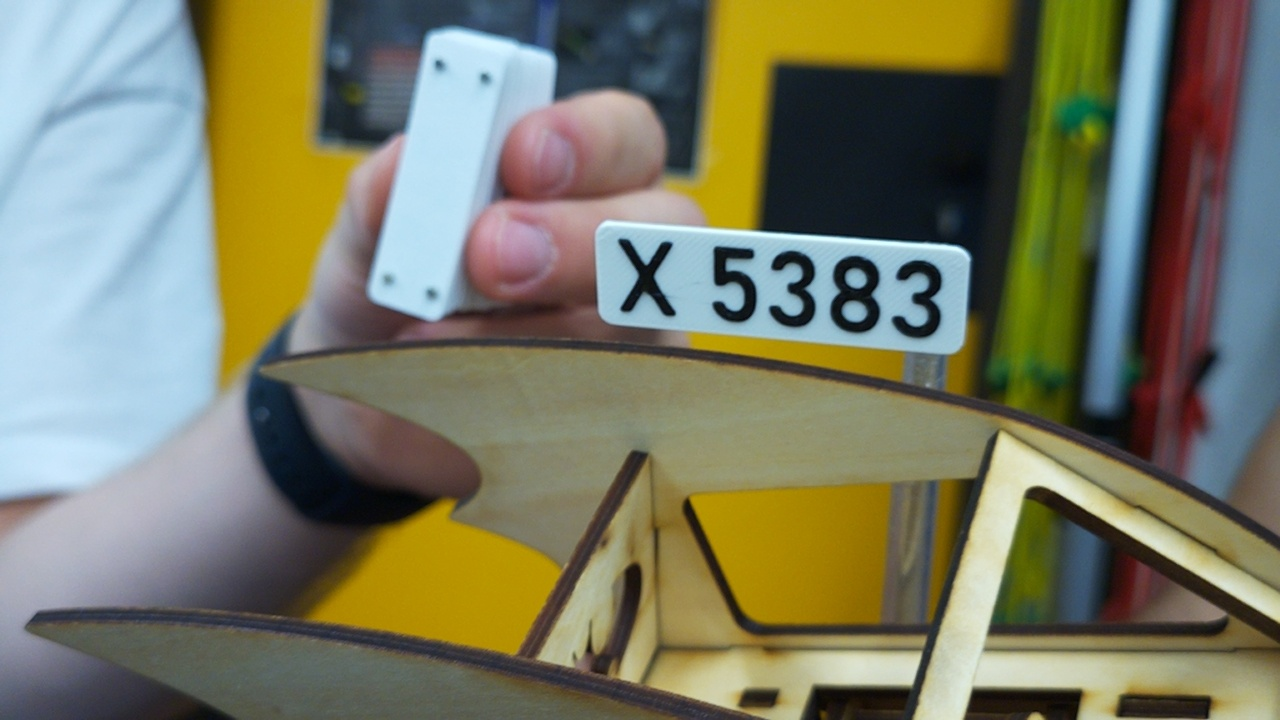license_plate: (592, 217, 973, 359)
